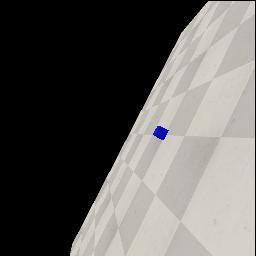box: (153, 126, 169, 140)
